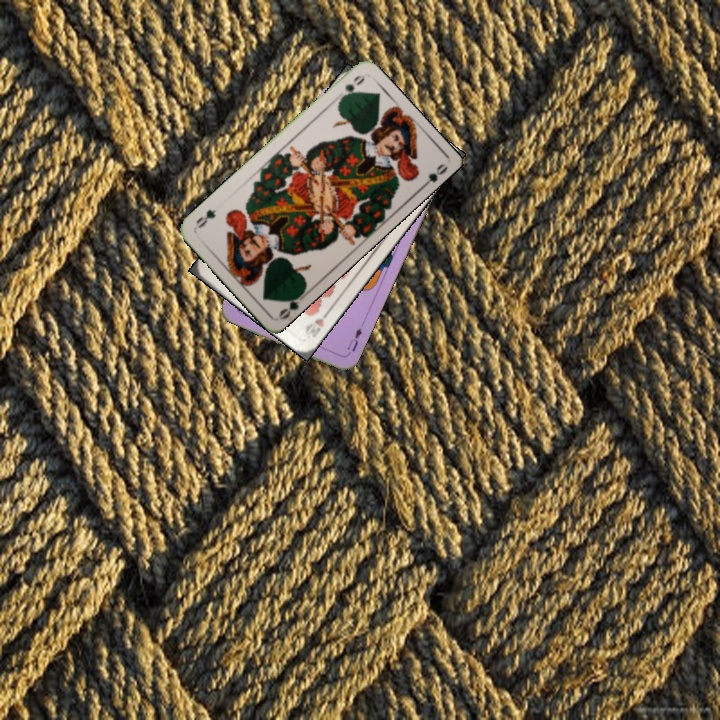EU: (341, 321, 366, 359)
GO: (275, 288, 309, 322), (335, 71, 364, 105)
H10: (301, 306, 332, 341)
